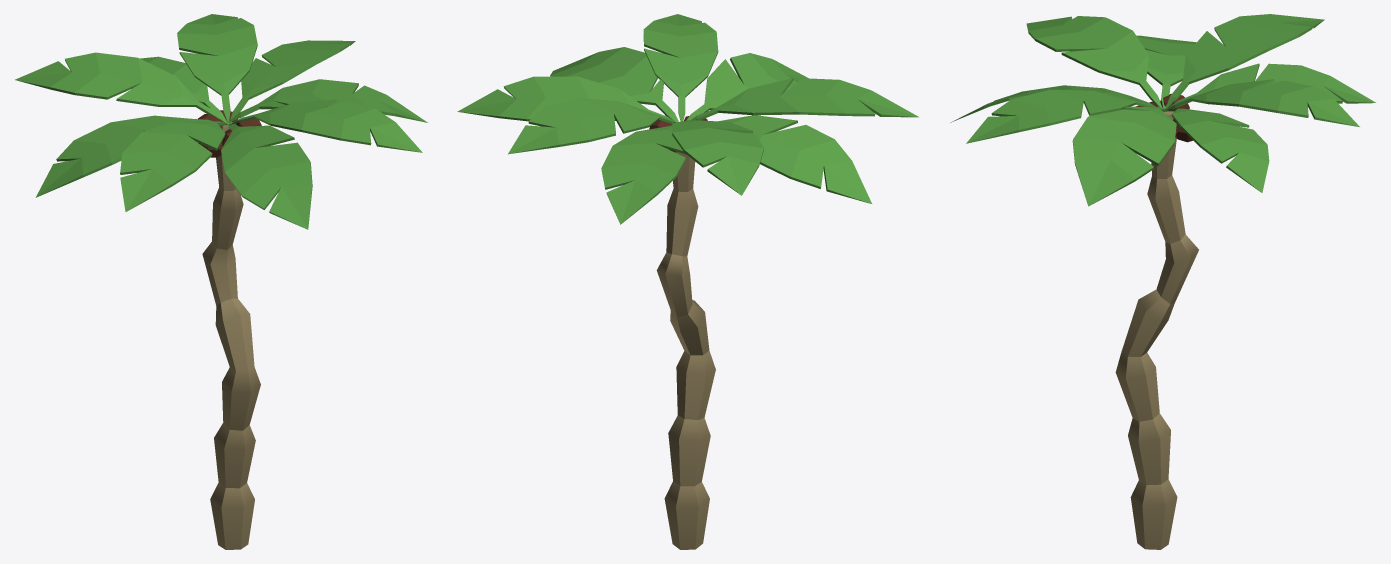
The model's file is Palm2.fbx.
The picture shows the model from 3 angles, left to right: view 1: azimuth 30°, elevation 25°; view 2: azimuth 150°, elevation 25°; view 3: azimuth 270°, elevation 25°; orthographic projection. The views are drawn at different scales.
Parts seen in each view (by area): view 1: pCylinder19, pPlane9, pPlane12, pPlane13, pPlane14, pPlane10, pPlane7, pPlane11, pPlane6, pPlane8; view 2: pCylinder19, pPlane7, pPlane13, pPlane8, pPlane14, pPlane10, pPlane12, pPlane11, pPlane6, pPlane9; view 3: pCylinder19, pPlane6, pPlane13, pPlane12, pPlane10, pPlane11, pPlane14, pPlane8, pPlane7, pPlane9.
Part boxes in pixels (left/top/right/bottom): pCylinder19: left=202, top=122, right=260, bottom=549; pPlane9: left=221, top=123, right=312, bottom=229; pPlane12: left=15, top=52, right=227, bottom=123; pPlane13: left=120, top=121, right=228, bottom=211; pPlane14: left=177, top=14, right=257, bottom=124; pPlane10: left=229, top=99, right=422, bottom=152; pPlane7: left=35, top=115, right=212, bottom=197; pPlane11: left=229, top=40, right=355, bottom=123; pPlane6: left=227, top=79, right=427, bottom=122; pPlane8: left=140, top=56, right=228, bottom=124; pCylinder19: left=656, top=151, right=715, bottom=549; pPlane7: left=719, top=115, right=871, bottom=203; pPlane13: left=691, top=78, right=918, bottom=120; pPlane8: left=601, top=125, right=686, bottom=224; pPlane14: left=508, top=98, right=675, bottom=154; pPlane10: left=643, top=14, right=718, bottom=121; pPlane12: left=672, top=120, right=763, bottom=195; pPlane11: left=457, top=76, right=674, bottom=123; pPlane6: left=550, top=47, right=678, bottom=122; pPlane9: left=686, top=53, right=808, bottom=120; pCylinder19: left=1115, top=107, right=1198, bottom=549; pPlane6: left=1072, top=106, right=1176, bottom=206; pPlane13: left=1026, top=16, right=1162, bottom=107; pPlane12: left=1165, top=14, right=1324, bottom=108; pPlane10: left=966, top=89, right=1153, bottom=143; pPlane11: left=1166, top=108, right=1269, bottom=192; pPlane14: left=1168, top=79, right=1359, bottom=126; pPlane8: left=1167, top=63, right=1375, bottom=109; pPlane7: left=1136, top=35, right=1196, bottom=108; pPlane9: left=950, top=85, right=1155, bottom=122.
Size of the model in its own units: 15.2 by 18.18 by 14.83.
